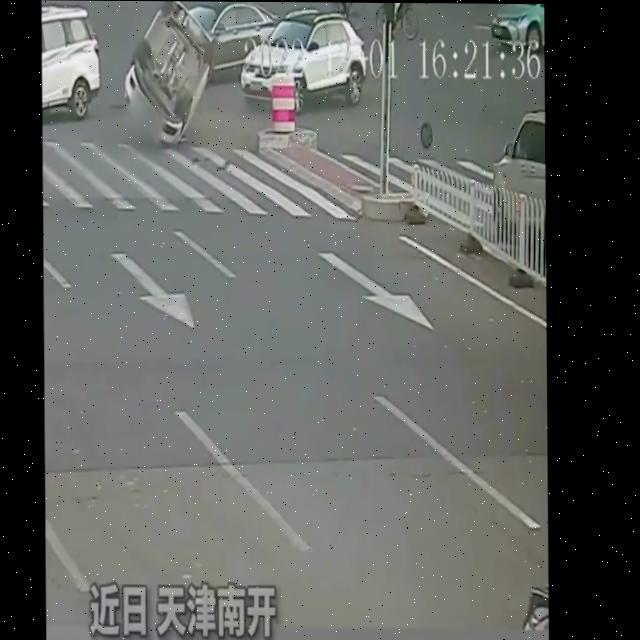multiple_accident: (112, 0, 375, 157)
